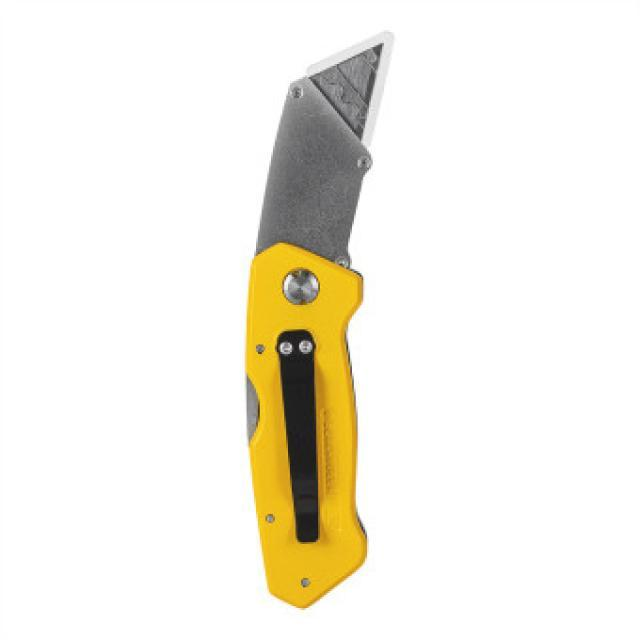cutter: (247, 37, 398, 606)
